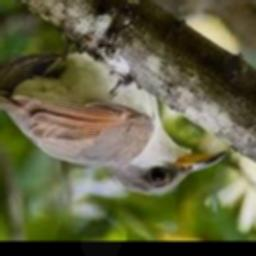Cuckoo: (0, 40, 227, 196)
